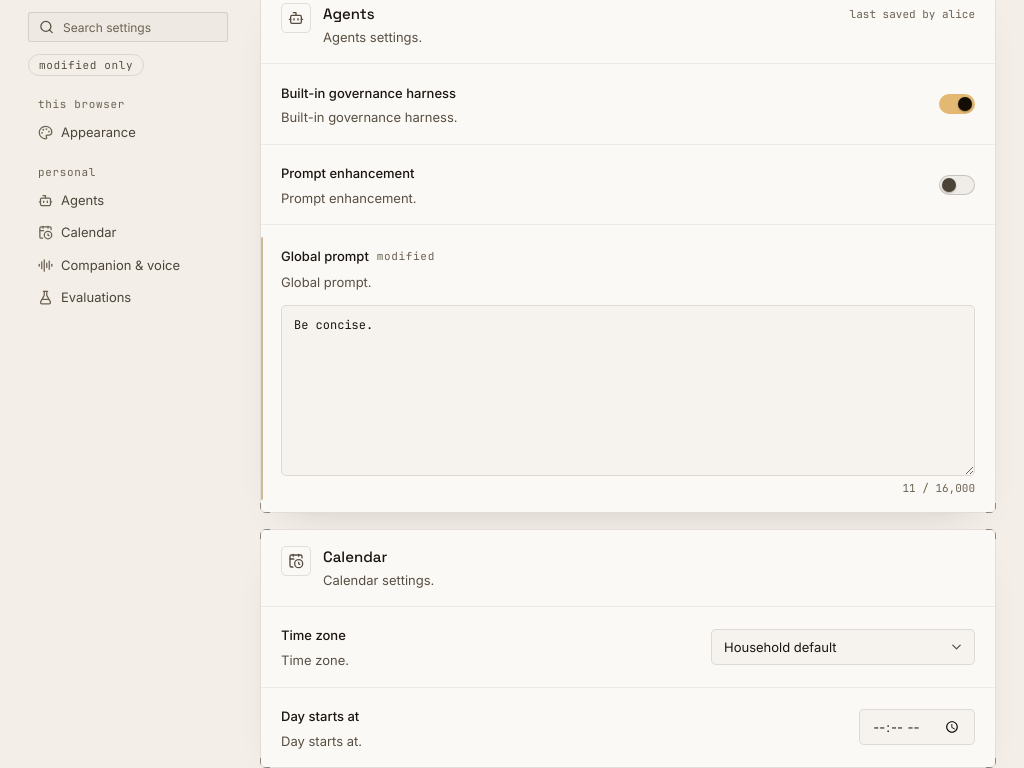
Settings editing › discards every unsaved change
The width and height of the screenshot is (1024, 768).
(page scrolled)
Replace the text in the text box labelled "Global prompt" with "Draft." at (628, 390), box [281, 305, 975, 476]
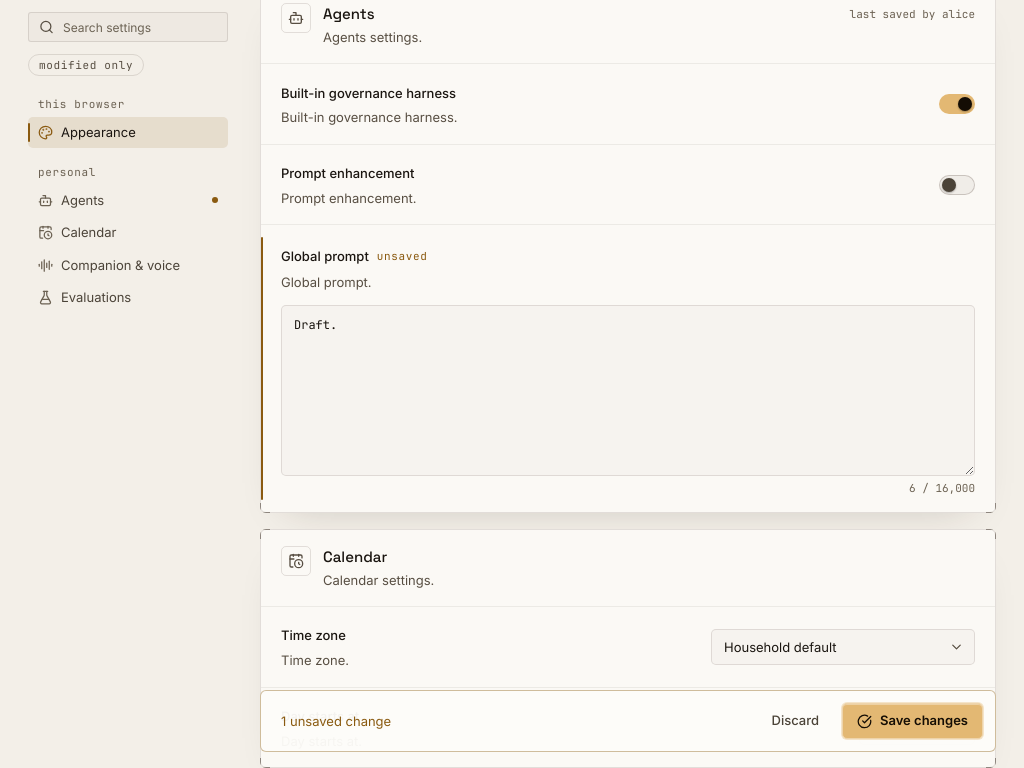
Click the button "Discard" at (795, 721), box [756, 703, 834, 739]
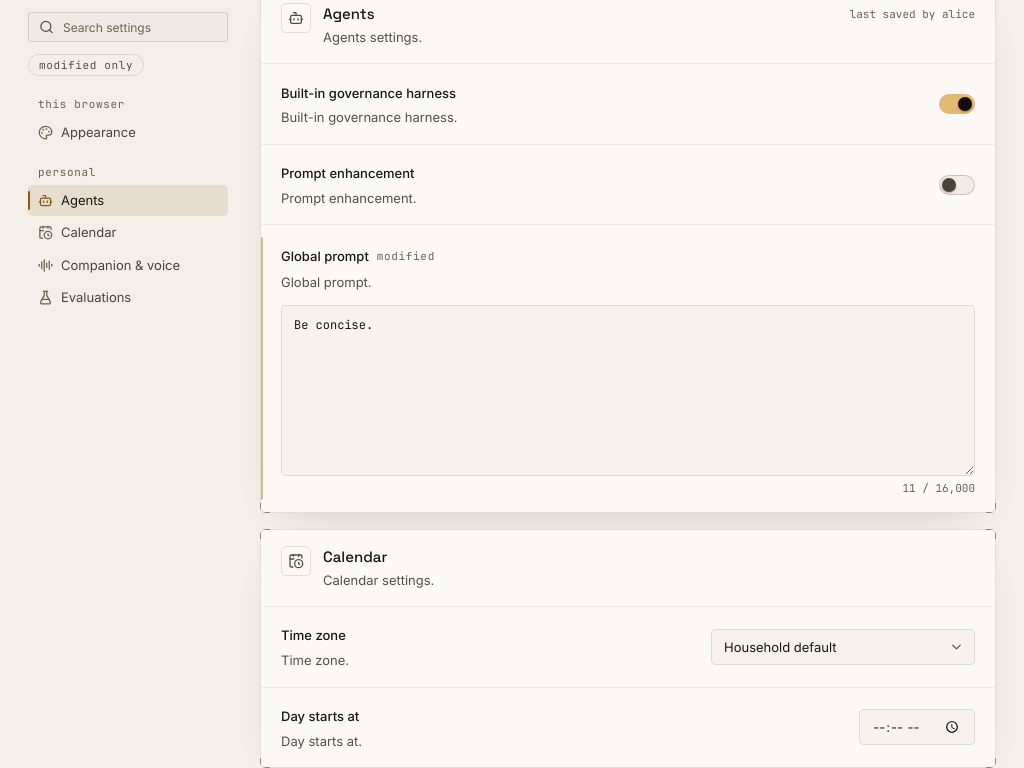
Expected: the text box labelled "Global prompt" holds "Be concise.", [281, 305, 975, 476]
Expected: the button "Save changes" is gone
